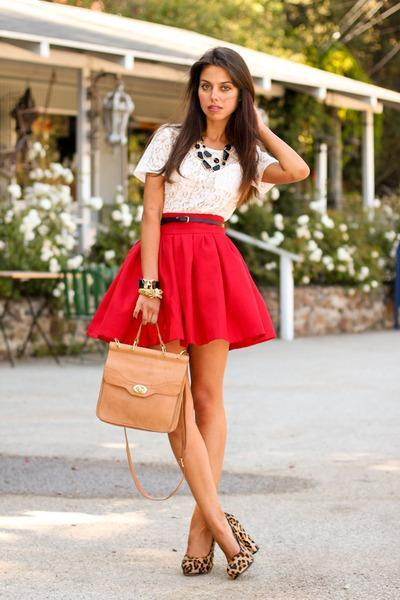bag: (96, 329, 194, 443)
jacket: (252, 156, 279, 198)
shirt: (132, 123, 241, 222)
shoe: (175, 517, 259, 577)
skirt: (86, 228, 273, 349)
